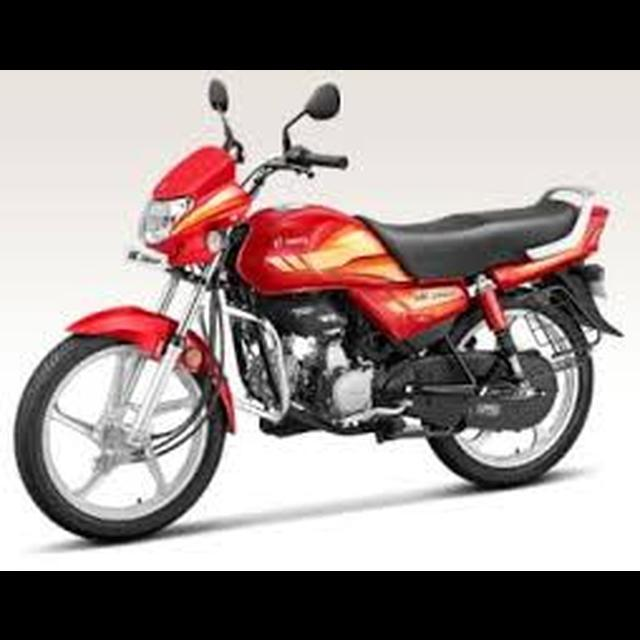motorcycle: (11, 71, 628, 549)
